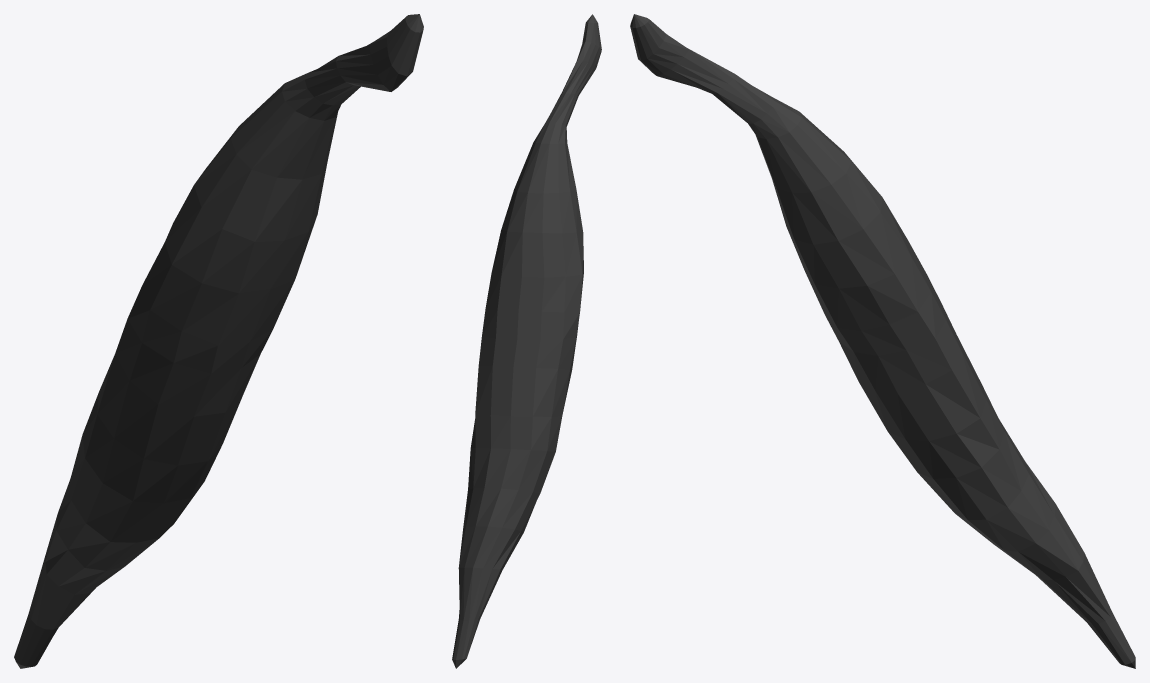
File: SDF.glb
The picture shows the model from 3 angles, left to right: view 1: azimuth 30°, elevation 25°; view 2: azimuth 150°, elevation 25°; view 3: azimuth 270°, elevation 25°; orthographic projection. The views are drawn at different scales.
Visible parts, largest first — view 1: SDF; view 2: SDF; view 3: SDF.
Boxes of the visible parts, left/top/right/bottom form: SDF: left=14, top=14, right=423, bottom=668; SDF: left=452, top=14, right=601, bottom=668; SDF: left=630, top=14, right=1135, bottom=668.
Size of the model in its own units: 0.9991 by 5.61 by 3.74.
Materials: 1 (1 with a texture image).
